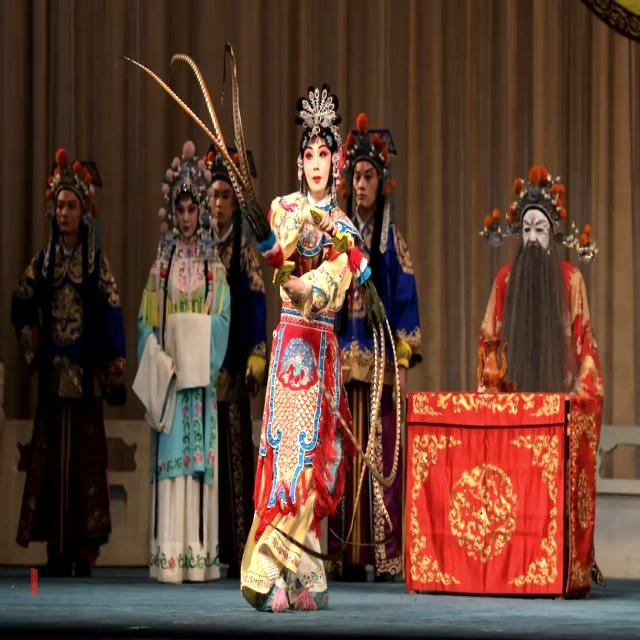Reeves-s Pheasant: (116, 42, 270, 239), (358, 278, 402, 486)
